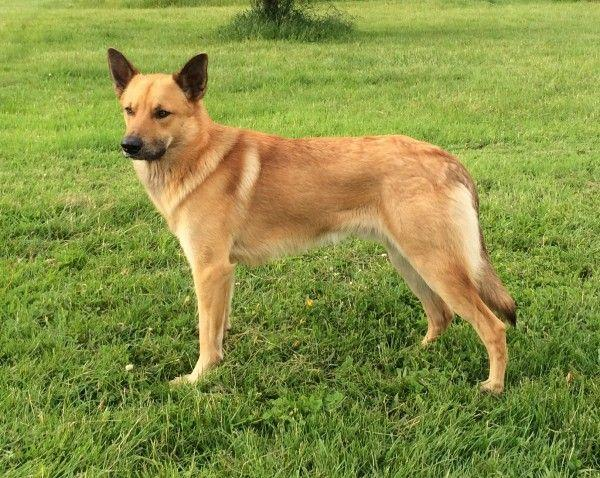dog: (108, 49, 514, 392)
